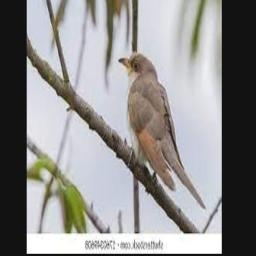Cuckoo: (118, 53, 206, 210)
